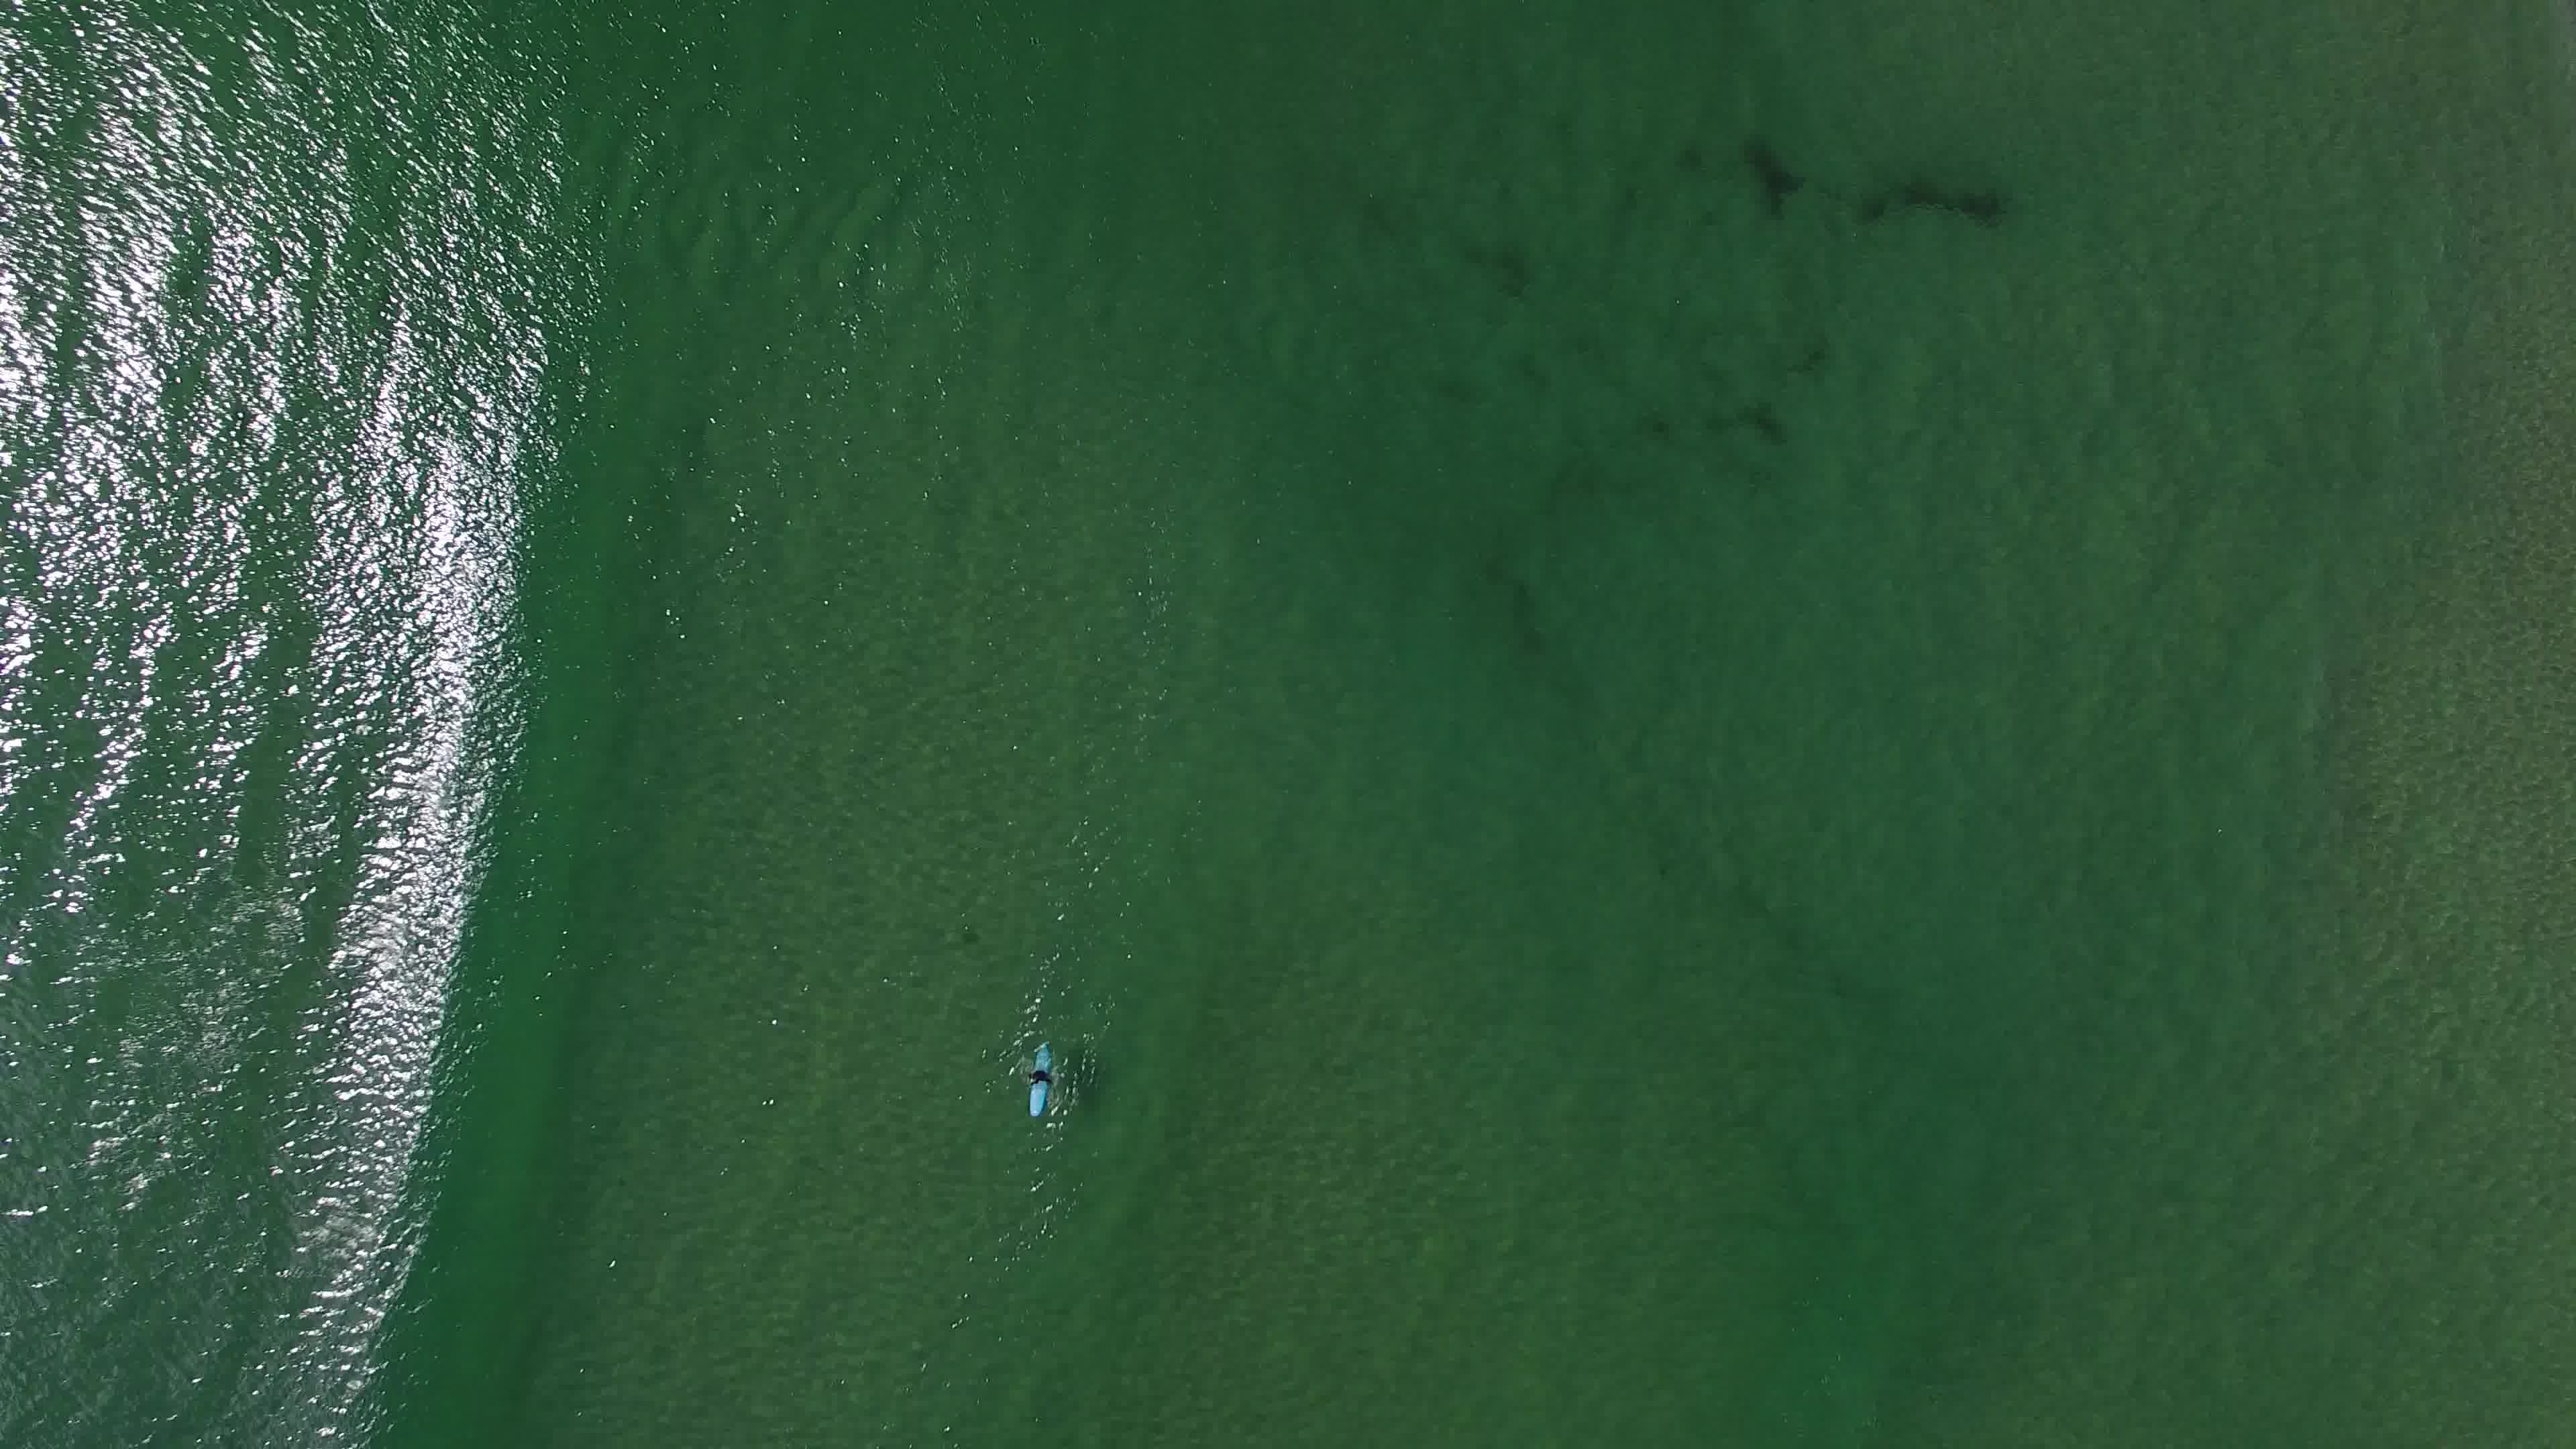surfer: (1012, 1035, 1067, 1122)
